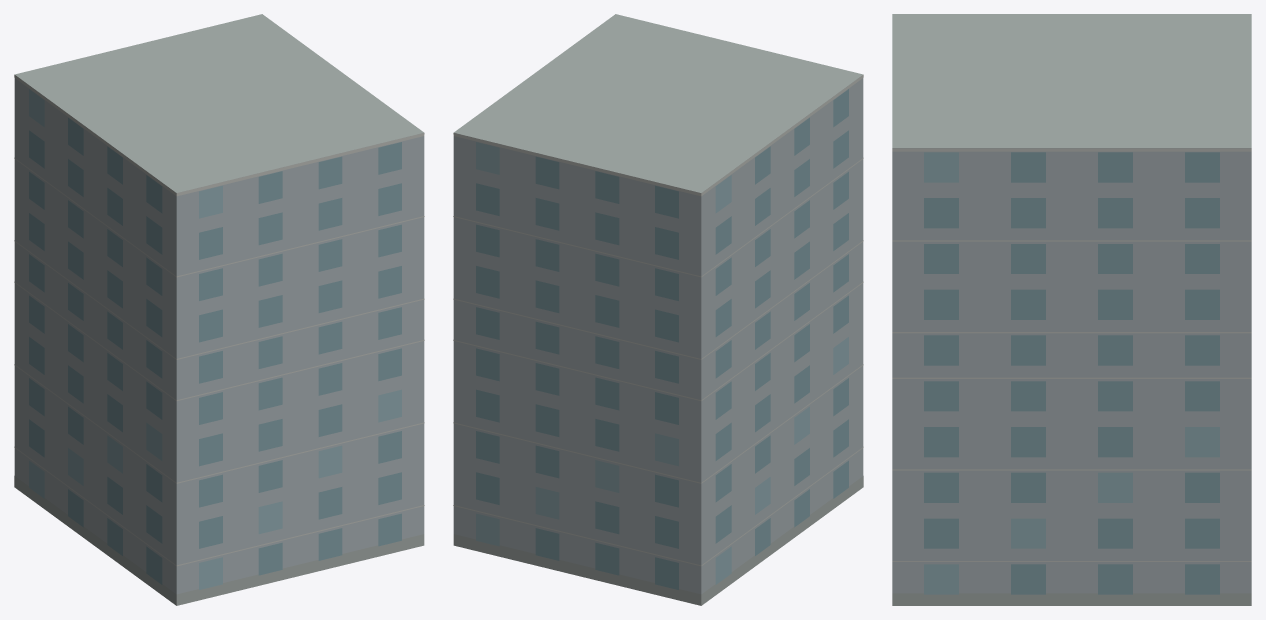
Rendered from residential-5f4ef360-a255-4419-8c83-62a0e3ba5c1a.glb.
3 renders of one model, left to right at view 1: azimuth 30°, elevation 25°; view 2: azimuth 150°, elevation 25°; view 3: azimuth 270°, elevation 25°, orthographic. The views are drawn at different scales.
Visible parts, largest first — view 1: residential-5f4ef360-a255-4419-8c83-62a0e3ba5c1a.tmp; view 2: residential-5f4ef360-a255-4419-8c83-62a0e3ba5c1a.tmp; view 3: residential-5f4ef360-a255-4419-8c83-62a0e3ba5c1a.tmp.
Boxes of the visible parts, x1,y1,x2,y2 form: residential-5f4ef360-a255-4419-8c83-62a0e3ba5c1a.tmp: (14, 14, 424, 605); residential-5f4ef360-a255-4419-8c83-62a0e3ba5c1a.tmp: (453, 14, 863, 605); residential-5f4ef360-a255-4419-8c83-62a0e3ba5c1a.tmp: (892, 14, 1251, 605).
Bounding box in the file's own units: 19.18 × 30.5 × 21.74.
